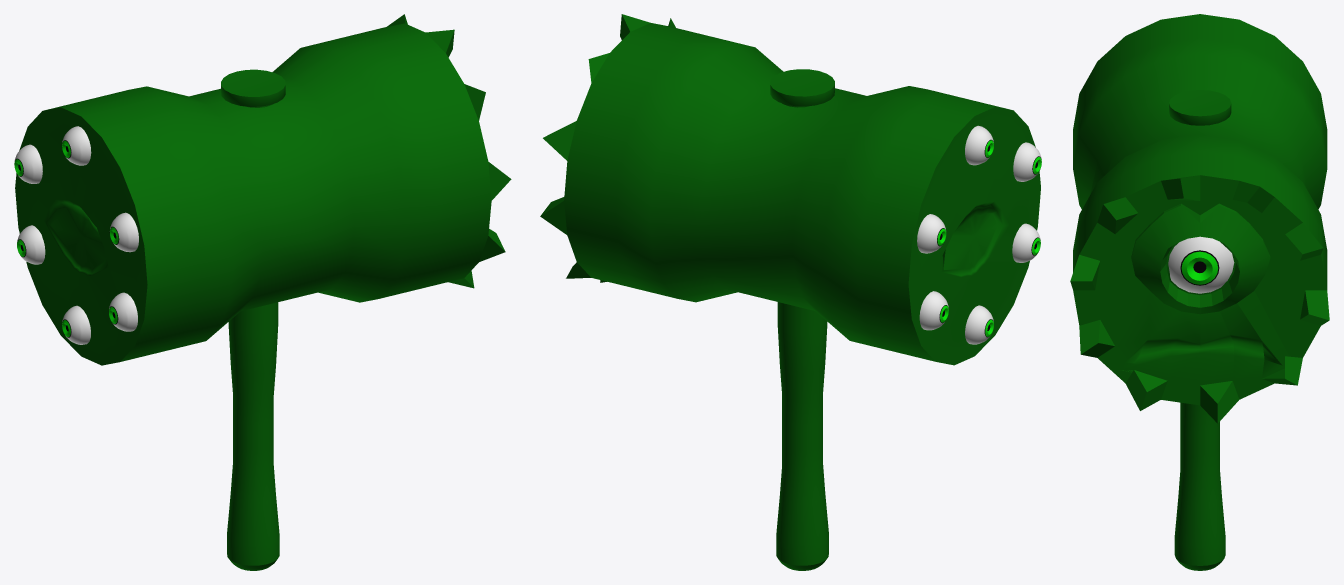
3 views of the same model, side by side, from view 1: azimuth 30°, elevation 25°; view 2: azimuth 150°, elevation 25°; view 3: azimuth 270°, elevation 25° (orthographic). The views are drawn at different scales.
Visible parts, largest first — view 1: Stick1, pSphere6, pSphere5, pSphere7, pSphere2, pSphere4, pSphere3; view 2: Stick1, pSphere2, pSphere3, pSphere7, pSphere6, pSphere4, pSphere5; view 3: Stick1, pSphere1.
Part boxes in pixels (<box>): Stick1: <box>15,14,511,570</box>; pSphere6: <box>109,212,138,252</box>; pSphere5: <box>109,292,137,331</box>; pSphere7: <box>62,126,91,165</box>; pSphere2: <box>14,144,42,183</box>; pSphere4: <box>62,305,90,344</box>; pSphere3: <box>17,225,45,264</box>; Stick1: <box>540,14,1040,570</box>; pSphere2: <box>917,214,946,253</box>; pSphere3: <box>919,291,948,330</box>; pSphere7: <box>965,125,993,165</box>; pSphere6: <box>1013,142,1041,181</box>; pSphere4: <box>965,305,993,344</box>; pSphere5: <box>1012,223,1040,262</box>; Stick1: <box>1070,14,1329,570</box>; pSphere1: <box>1168,236,1234,293</box>.
Bounding box in the file's own units: 33.42 × 41.3 × 20.42.
